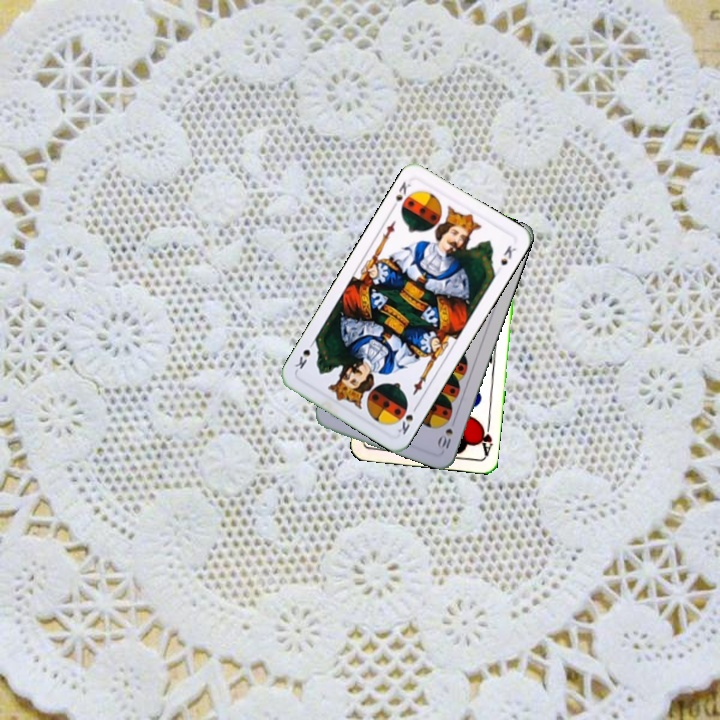HA: (475, 417, 495, 458)
S10: (434, 424, 456, 451)
SK: (394, 401, 421, 437), (387, 177, 413, 213)
